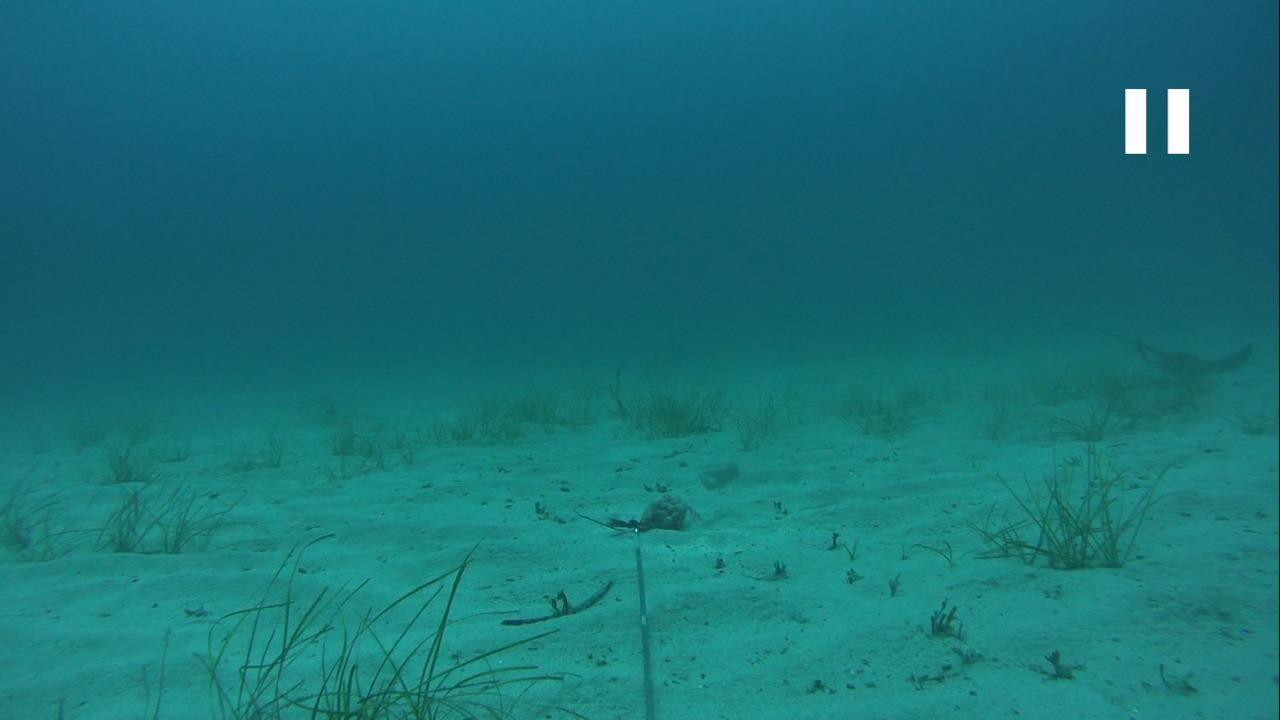myliobatis: (1062, 316, 1264, 387)
raor: (691, 456, 745, 490)
